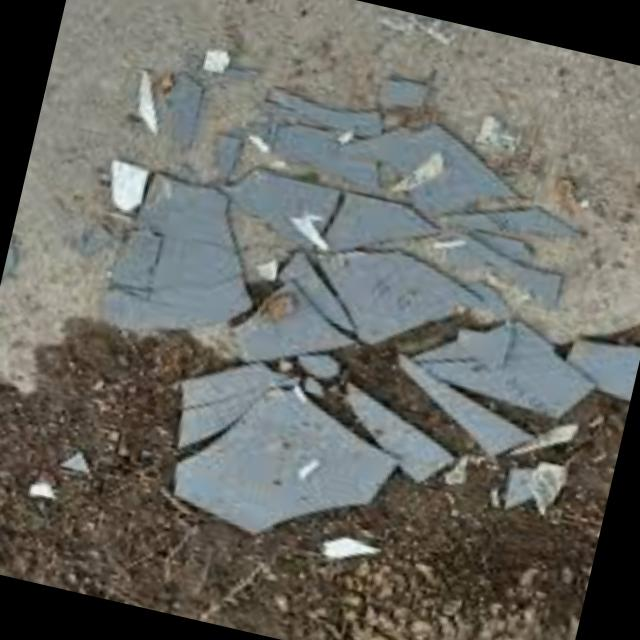PecahanKaca: (25, 13, 640, 615)
